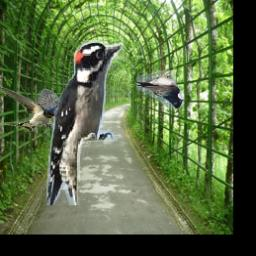Swallow: (0, 85, 59, 132), (136, 71, 184, 109)
Woodpecker: (46, 41, 124, 206)
